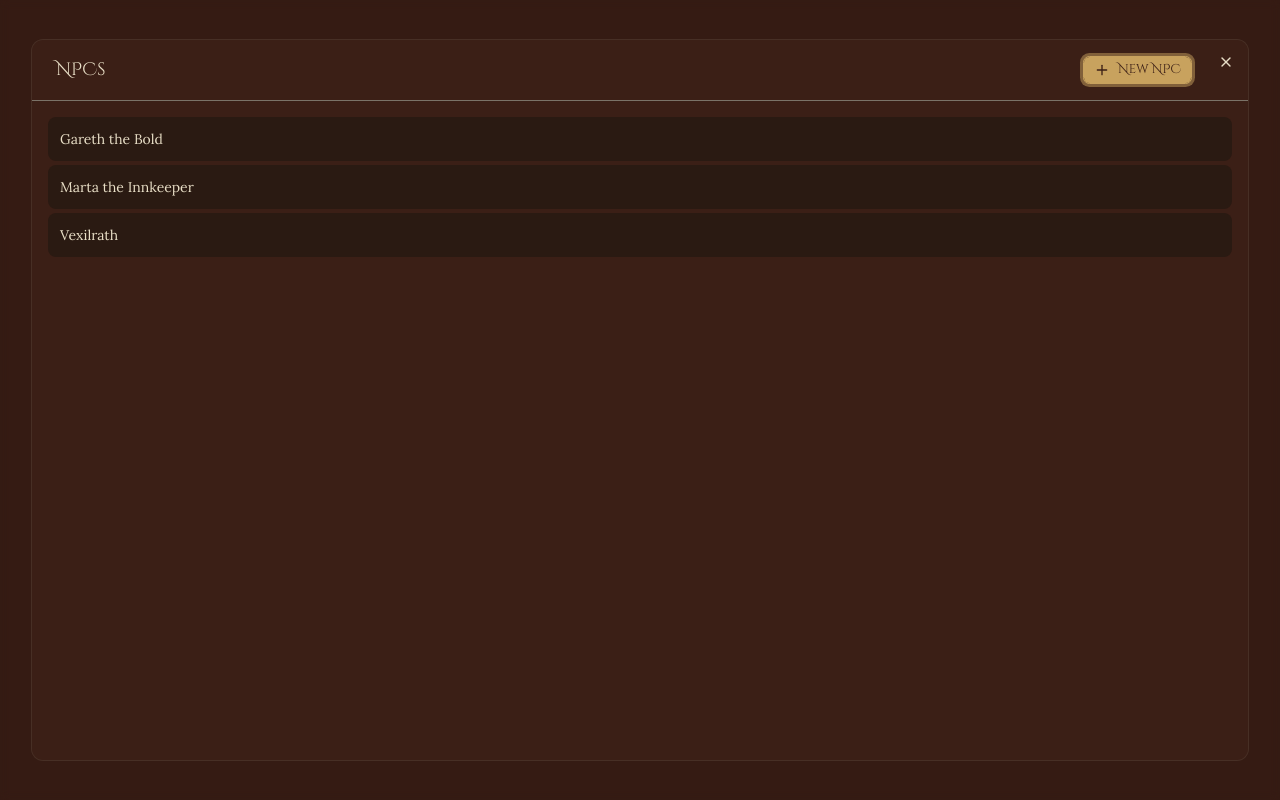
Test: MasterDetailModal — Detail Sidebar › switches detail when a different item is clicked
Click the text "Gareth the Bold" at (112, 139), box [60, 130, 163, 148]
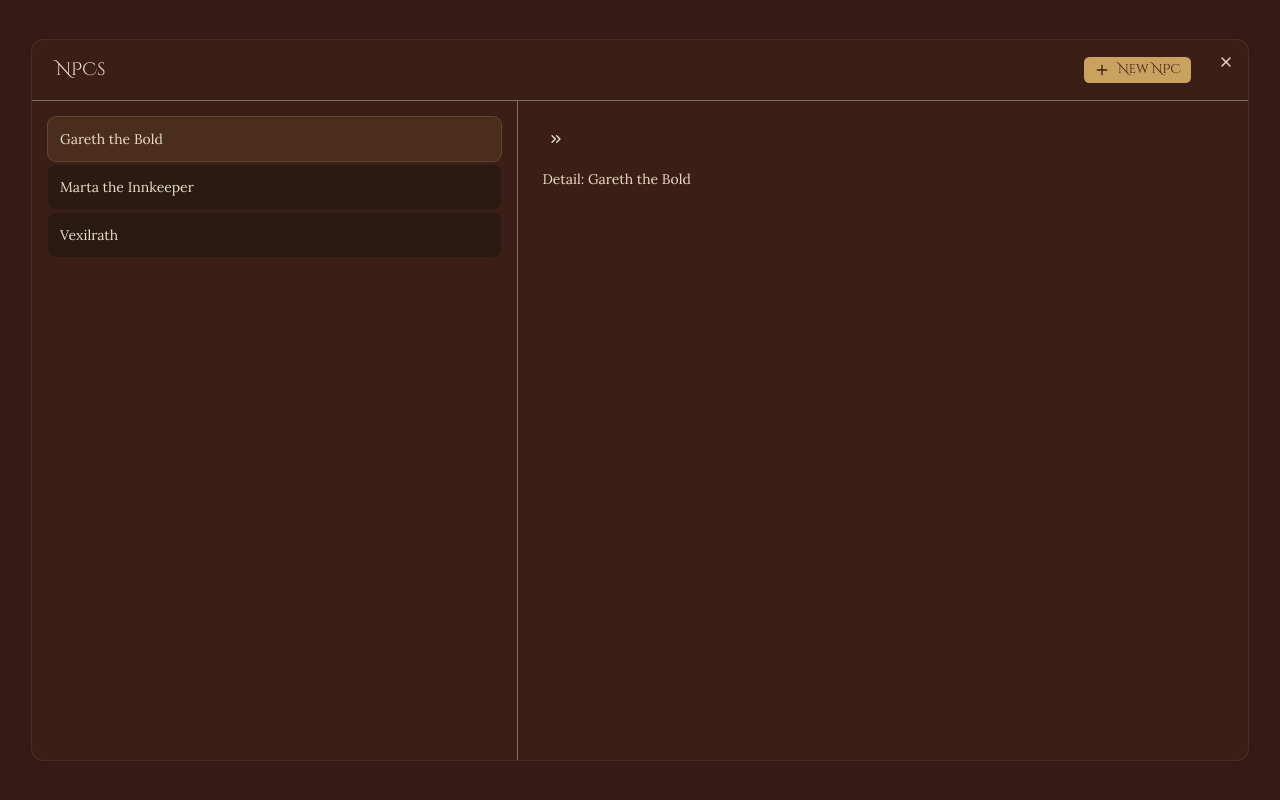
Expected: the text "Detail: Gareth the Bold" is shown, [542, 170, 691, 188]
Click the text "Marta the Innkeeper" at (127, 187), box [60, 178, 194, 196]
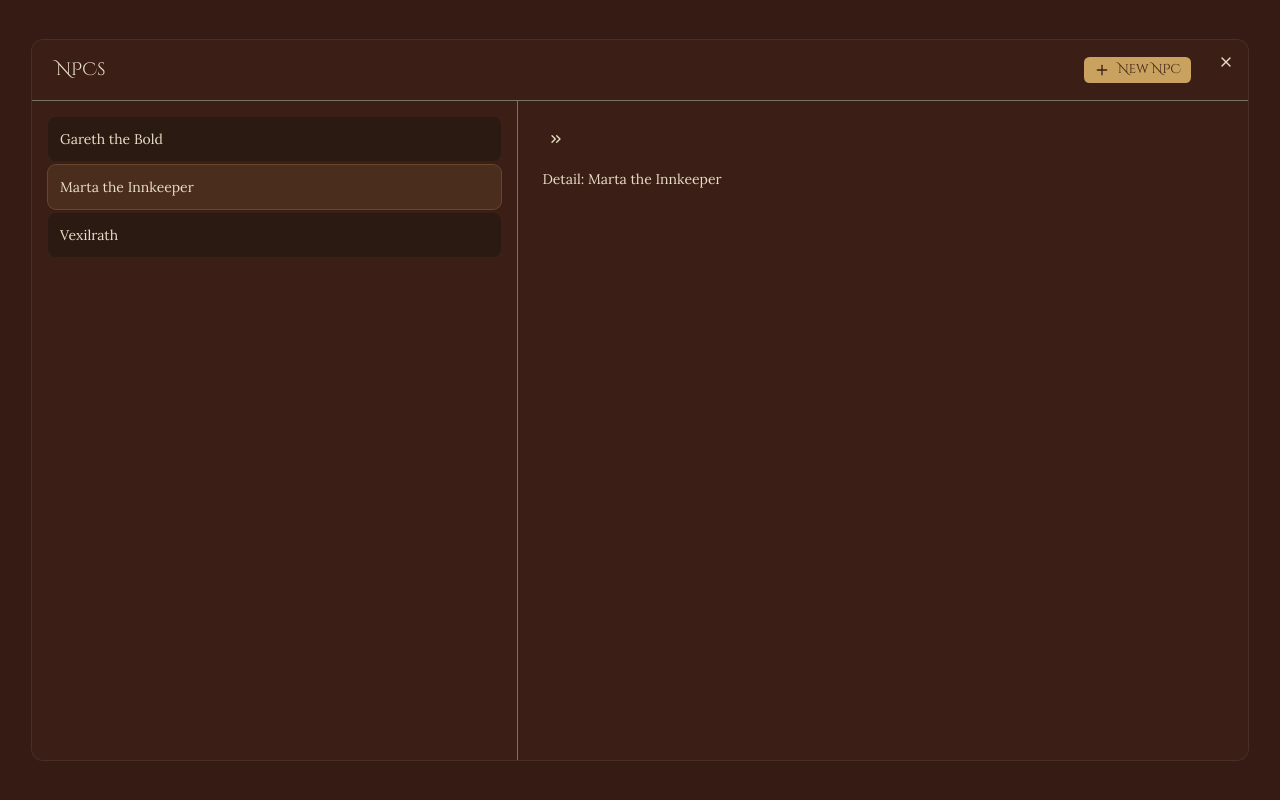
Expected: the text "Detail: Marta the Innkeeper" is shown, [542, 170, 722, 188]
Expected: the text "Detail: Gareth the Bold" is gone
